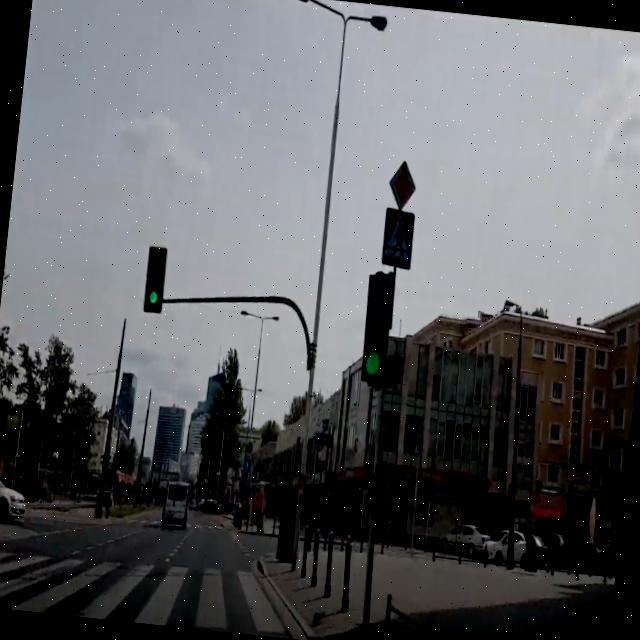Droga z pierwszenstwem: (384, 156, 418, 211)
Przejscie dla pieszych: (379, 206, 416, 271)
